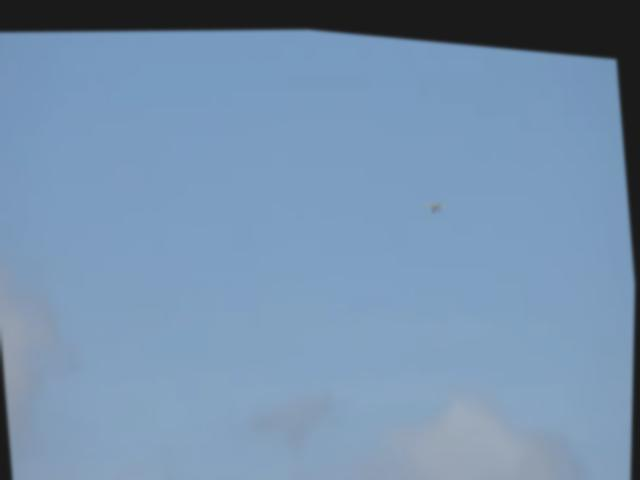plane: (423, 190, 450, 207)
